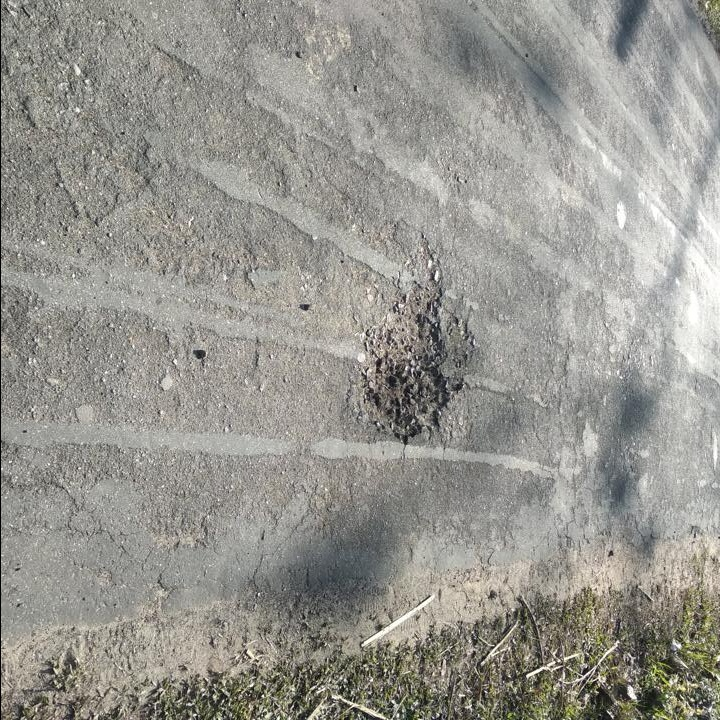pothole: (354, 254, 473, 444)
